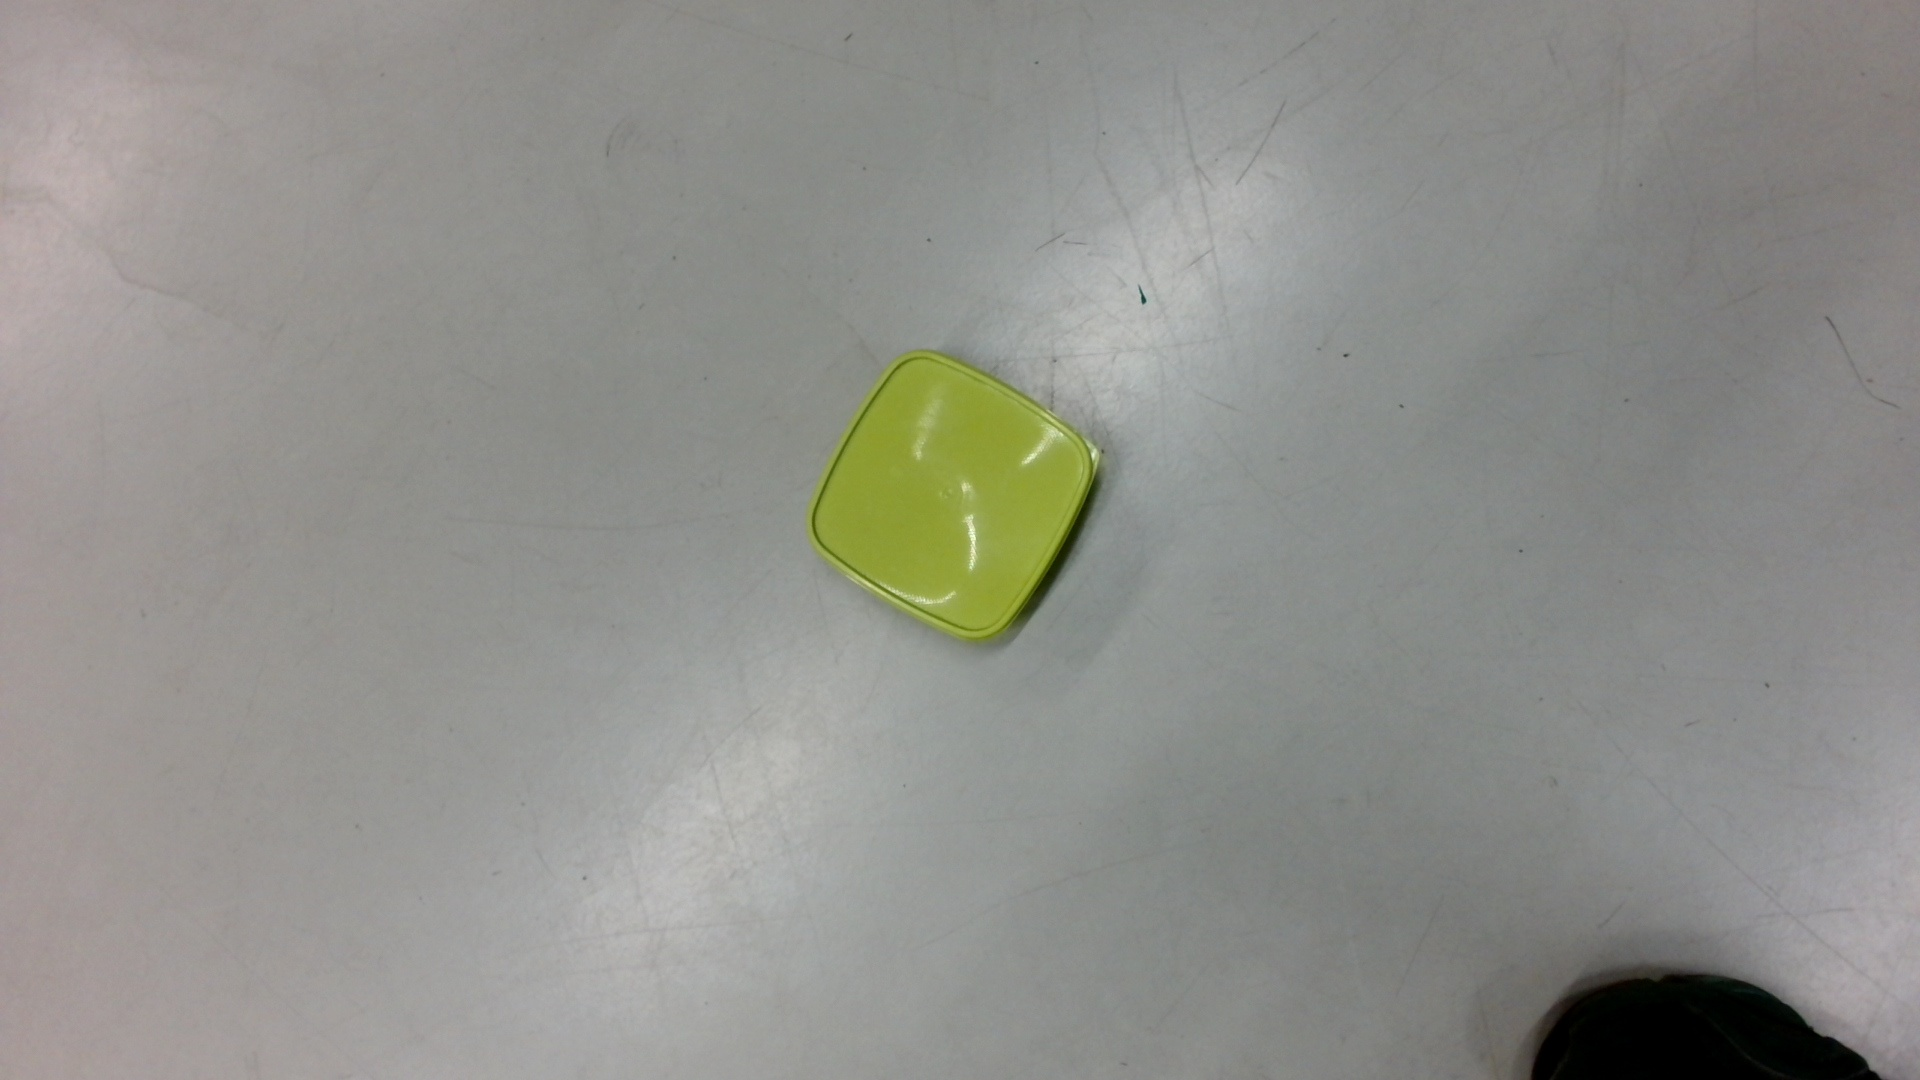Box: (802, 346, 1112, 654)
